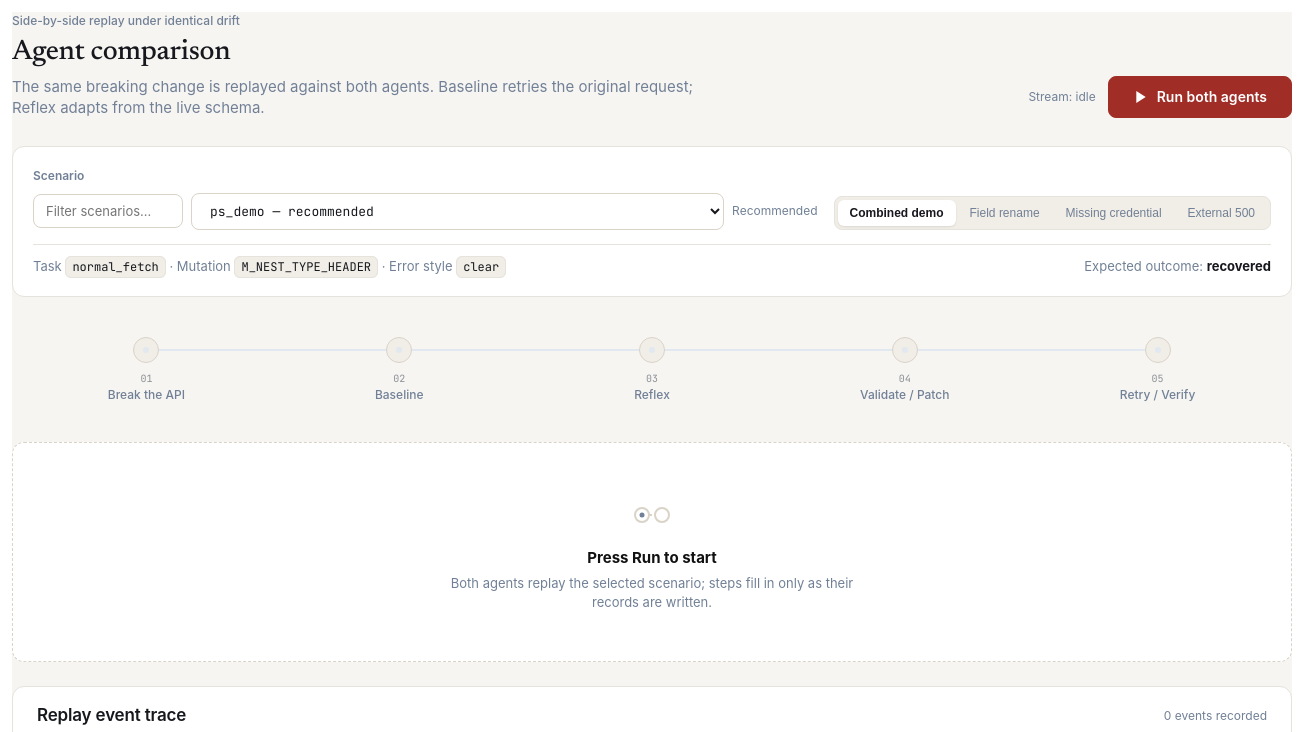
Scenario: Comparison page › labels an LLM-fallback repair only when the record says so
Click the button "Run both agents" at (1200, 97), box [1108,76,1292,118]
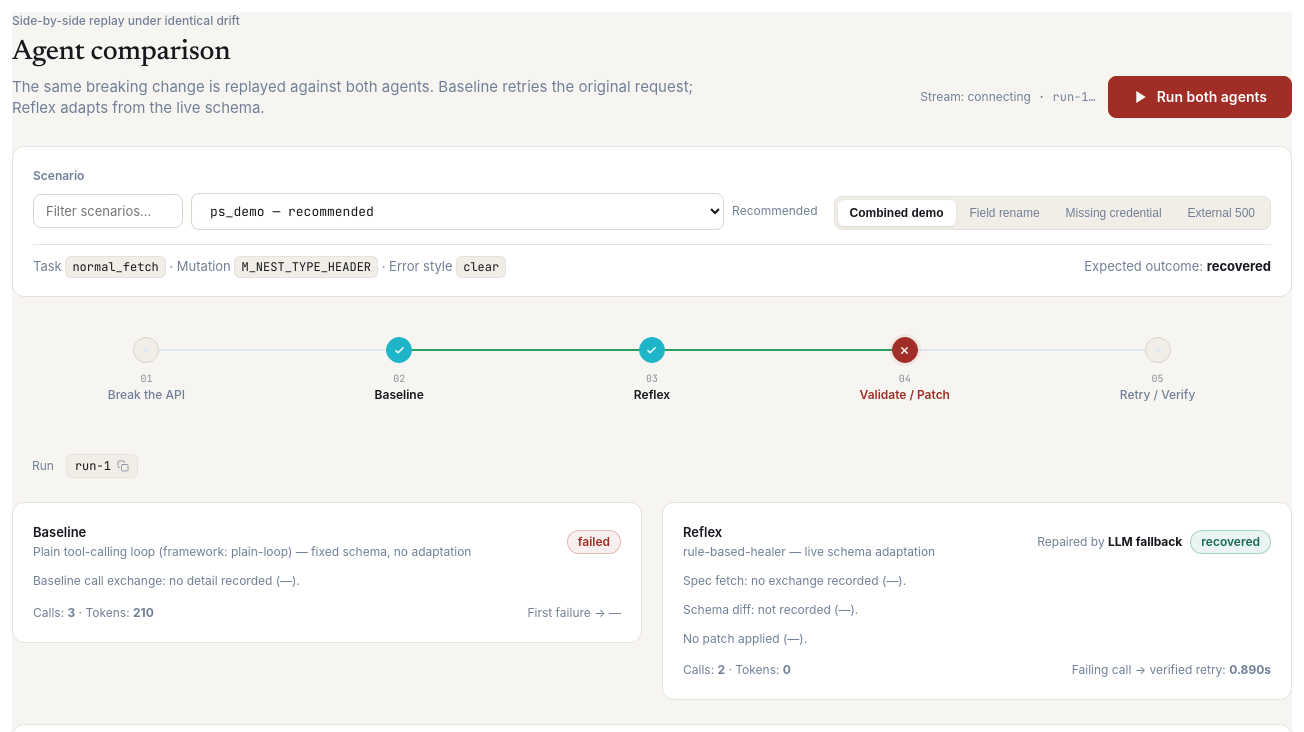
Expected: the text "LLM fallback" is shown, [1108,534,1182,549]
